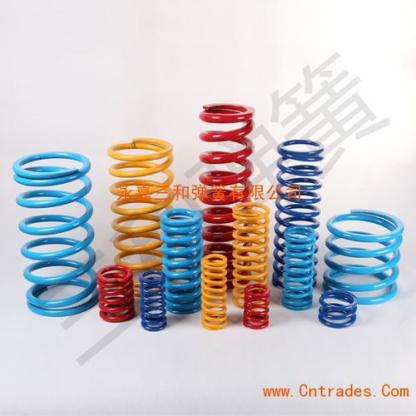FOD: (11, 150, 98, 316), (195, 99, 255, 290), (106, 136, 174, 301), (322, 207, 406, 305), (272, 134, 325, 289), (158, 205, 205, 317), (230, 199, 272, 310), (280, 221, 317, 310), (97, 263, 138, 325), (199, 252, 229, 330), (137, 270, 168, 333), (317, 287, 360, 328), (242, 282, 272, 330)
